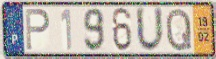1: (60, 9, 73, 52)
6: (111, 6, 134, 54)
9: (83, 7, 107, 53)
P: (24, 8, 51, 52)
Q: (165, 6, 193, 53)
U: (134, 5, 166, 54)
